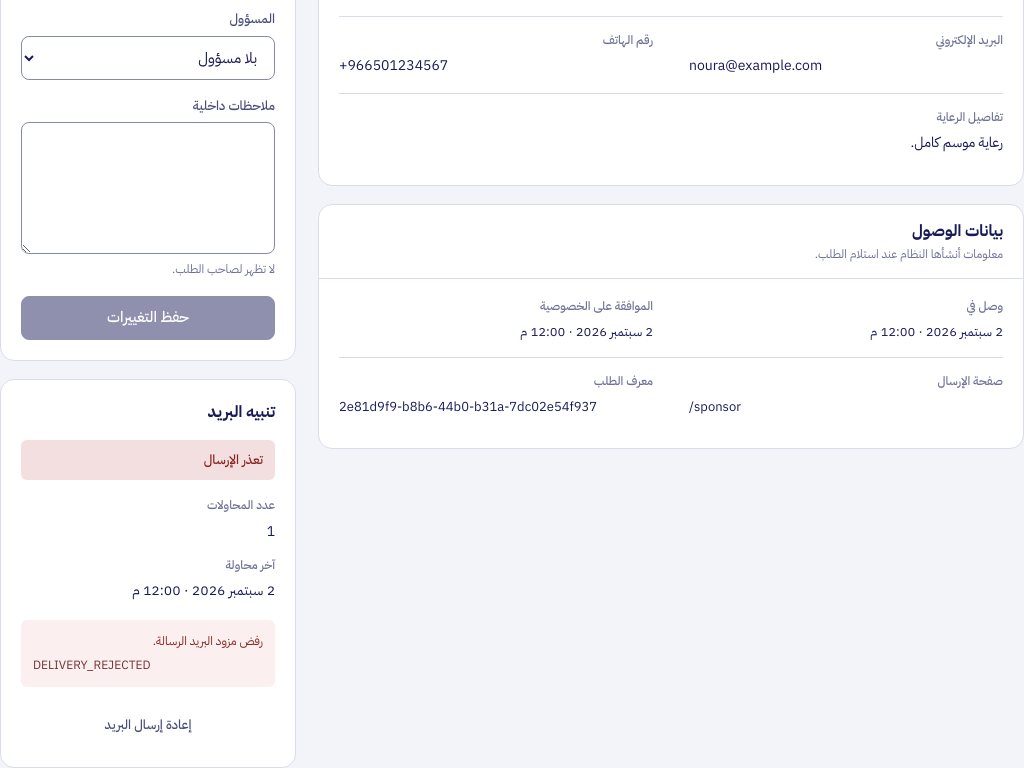
Test: Studio form-submission inbox › does not report delivery success when the retry returns an unconfigured state
(page scrolled)
Click the button "إعادة إرسال البريد" at point(148, 725), box [21, 703, 275, 747]
(page scrolled)
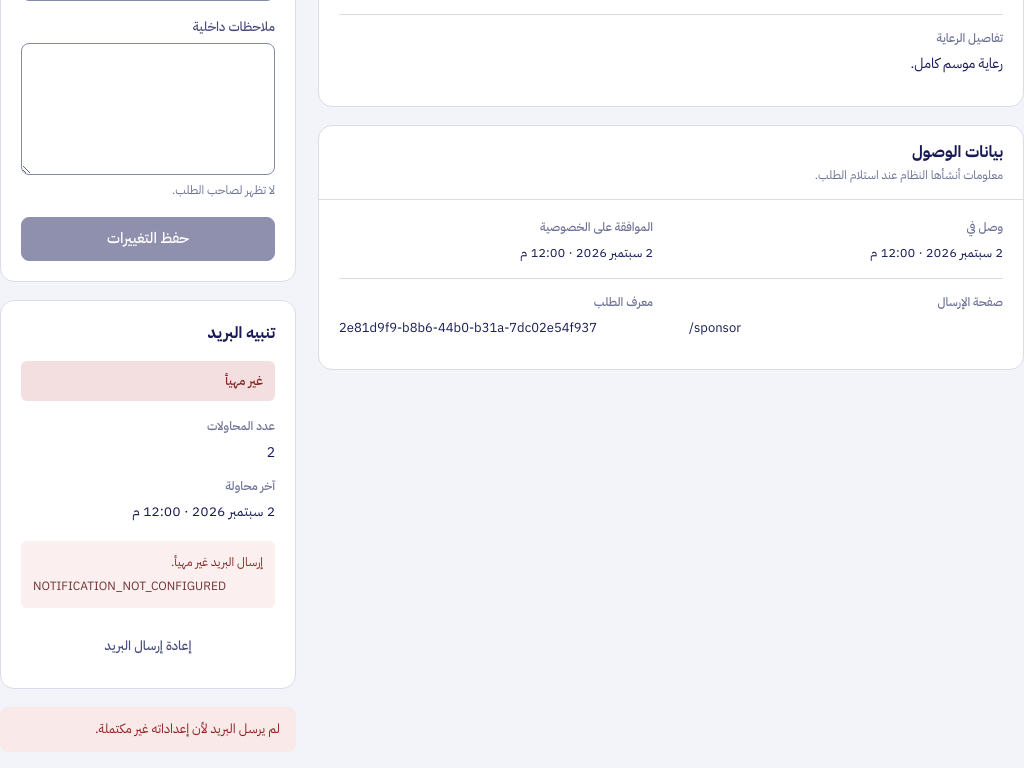
Check: the message reads "لم يرسل البريد لأن إعداداته غير مكتملة.", box [95, 719, 280, 738]
